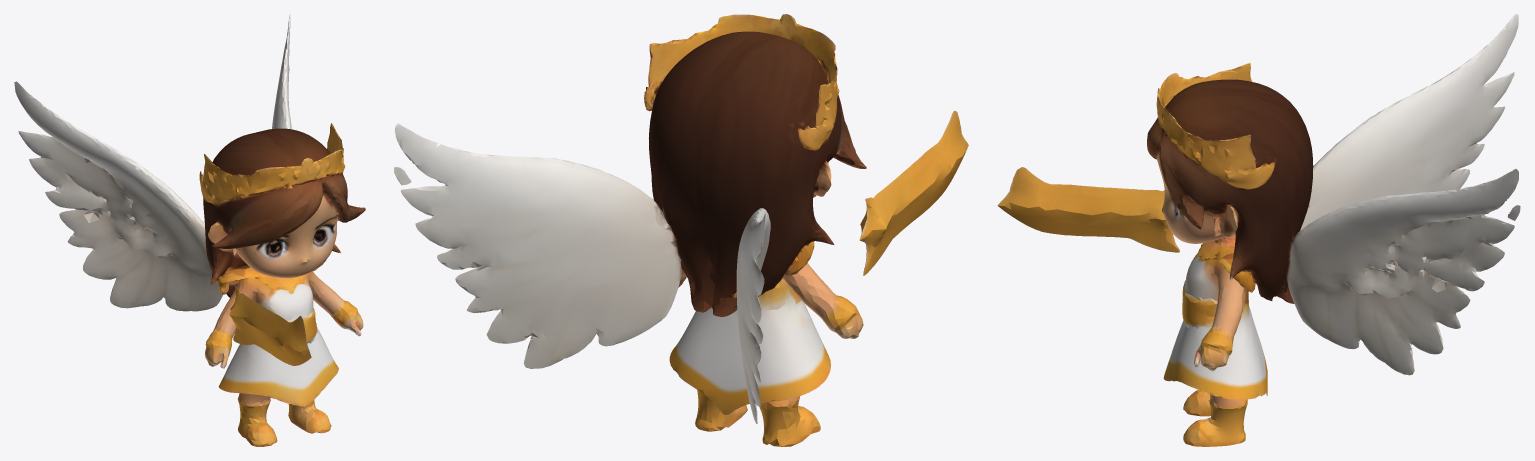
File: AngelWarrior.fbx
3 views of the same model, side by side, from view 1: azimuth 30°, elevation 25°; view 2: azimuth 150°, elevation 25°; view 3: azimuth 270°, elevation 25° (orthographic). The views are drawn at different scales.
Visible parts, largest first — view 1: AngelWarrior; view 2: AngelWarrior; view 3: AngelWarrior.
Part boxes in pixels (left/top/right/bottom): AngelWarrior: left=14, top=14, right=365, bottom=446; AngelWarrior: left=394, top=14, right=968, bottom=446; AngelWarrior: left=997, top=14, right=1520, bottom=446.
Bounding box in the file's own units: 1.25 × 1.25 × 1.76.
1 material, 1 textured.
